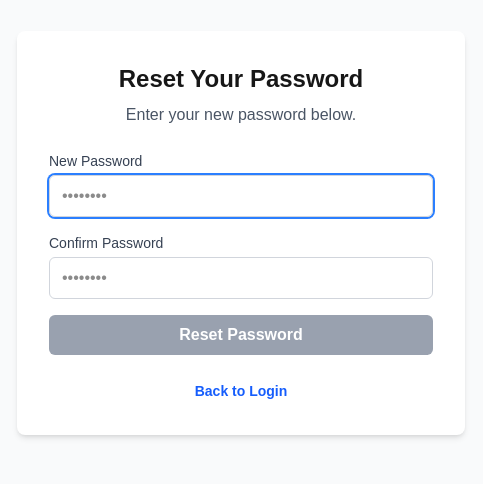
Test: ResetPasswordPage › Form Submission › should show success state and redirect to login
Type "NewPassword123!" into the password field labelled "New Password". click: (241, 196)
box: [49, 175, 433, 217]
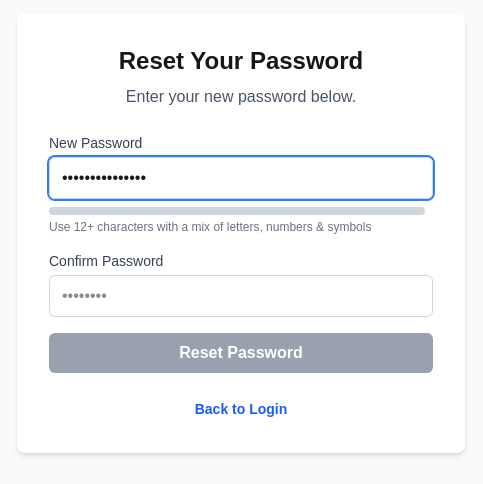
Type "NewPassword123!" into the password field labelled "Confirm Password". click: (241, 296)
box: [49, 275, 433, 317]
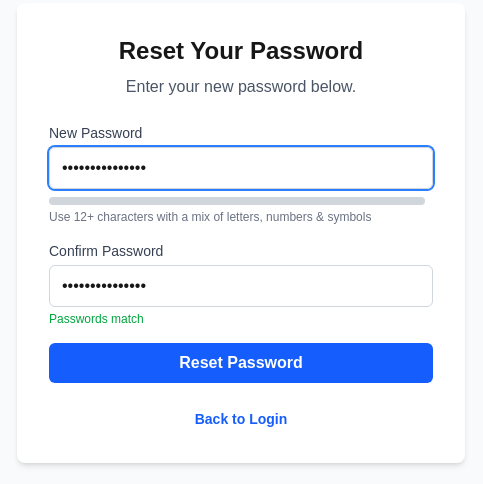
Click the button "Reset Password". click: (241, 363)
box: [49, 343, 433, 383]
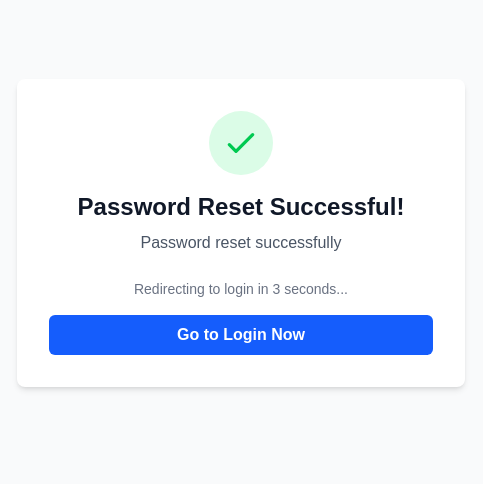
expect the heading "Password Reset Successful!" is shown: met, box [49, 191, 433, 223]
expect the text "Redirecting to login in 3 seconds..." is shown: met, box [134, 281, 348, 297]
